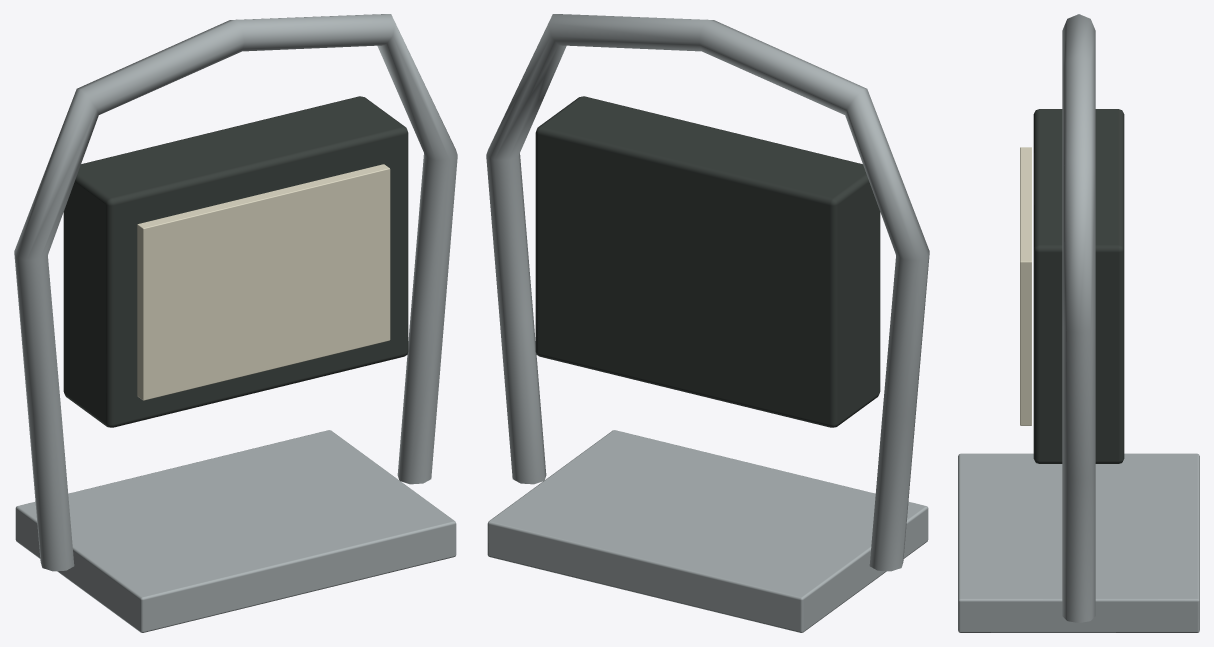
File: off-grid-power-and-controls-work-lamp-f2a4e719__3019.glb
3 renders of one model, left to right at view 1: azimuth 30°, elevation 25°; view 2: azimuth 150°, elevation 25°; view 3: azimuth 270°, elevation 25°, orthographic. The views are drawn at different scales.
Visible parts, largest first — view 1: work-lamp, lamp-head/dark; view 2: work-lamp, lamp-head/dark; view 3: work-lamp, lamp-head/dark.
Part boxes in pixels (bbox=[...]): work-lamp: bbox=[14, 14, 457, 632]; lamp-head/dark: bbox=[63, 96, 408, 427]; work-lamp: bbox=[486, 14, 929, 632]; lamp-head/dark: bbox=[535, 96, 880, 427]; work-lamp: bbox=[958, 14, 1199, 632]; lamp-head/dark: bbox=[1033, 109, 1124, 463].
Size of the model in its own units: 0.3205 by 0.3685 by 0.16.
